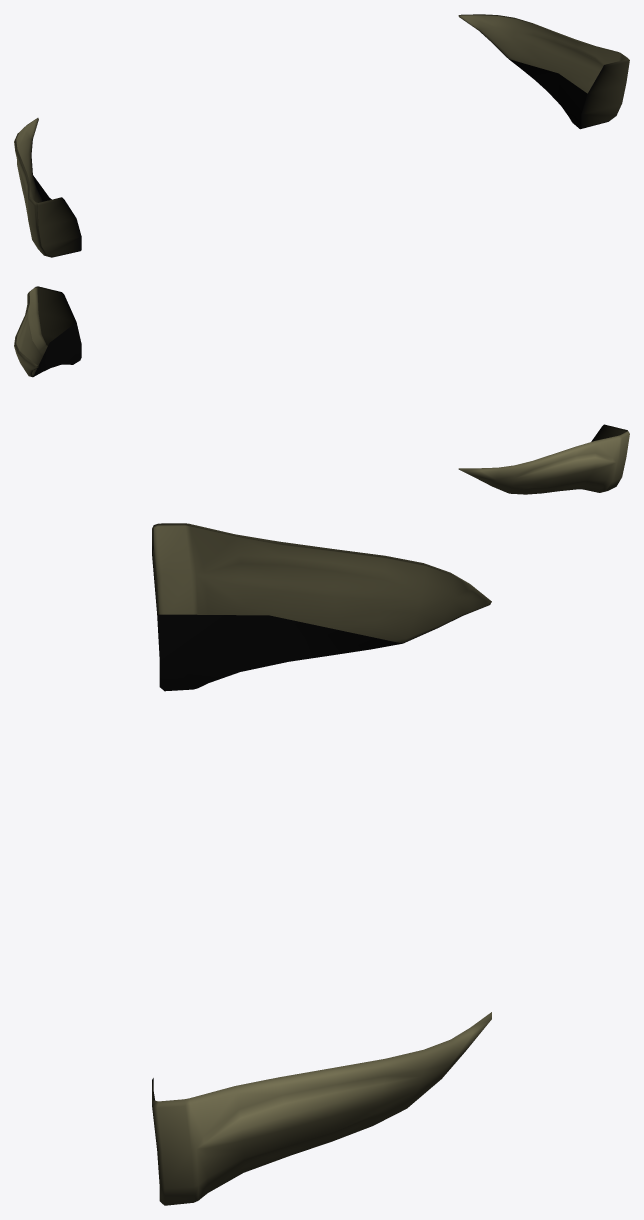
File: G37_RB_02_Duco.fbx
3 renders of one model, top to bottom at view 1: azimuth 30°, elevation 25°; view 2: azimuth 150°, elevation 25°; view 3: azimuth 270°, elevation 25°, orthographic. The views are drawn at different scales.
Visible parts, largest first — view 1: G37_RB_02_Duco; view 2: G37_RB_02_Duco; view 3: G37_RB_02_Duco.
Boxes of the visible parts, x1,y1,x2,y2 form: G37_RB_02_Duco: (14,14,629,257); G37_RB_02_Duco: (14,286,629,494); G37_RB_02_Duco: (152,523,491,1205).
Bounding box in the file's own units: 179 × 18.52 × 44.15.
